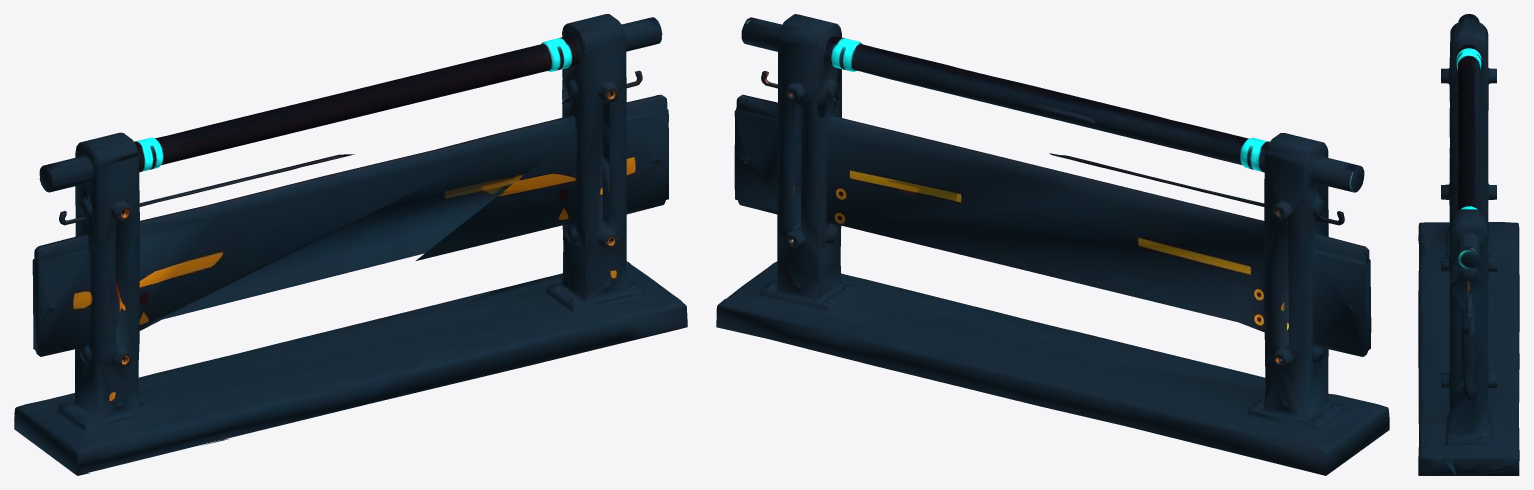
Rendered from spectator_safety_rail.glb.
3 views of the same model, side by side, from view 1: azimuth 30°, elevation 25°; view 2: azimuth 150°, elevation 25°; view 3: azimuth 270°, elevation 25° (orthographic). The views are drawn at different scales.
Size of the model in its own units: 1.9 by 0.857 by 0.3335.
Materials: 1 (1 with a texture image).
